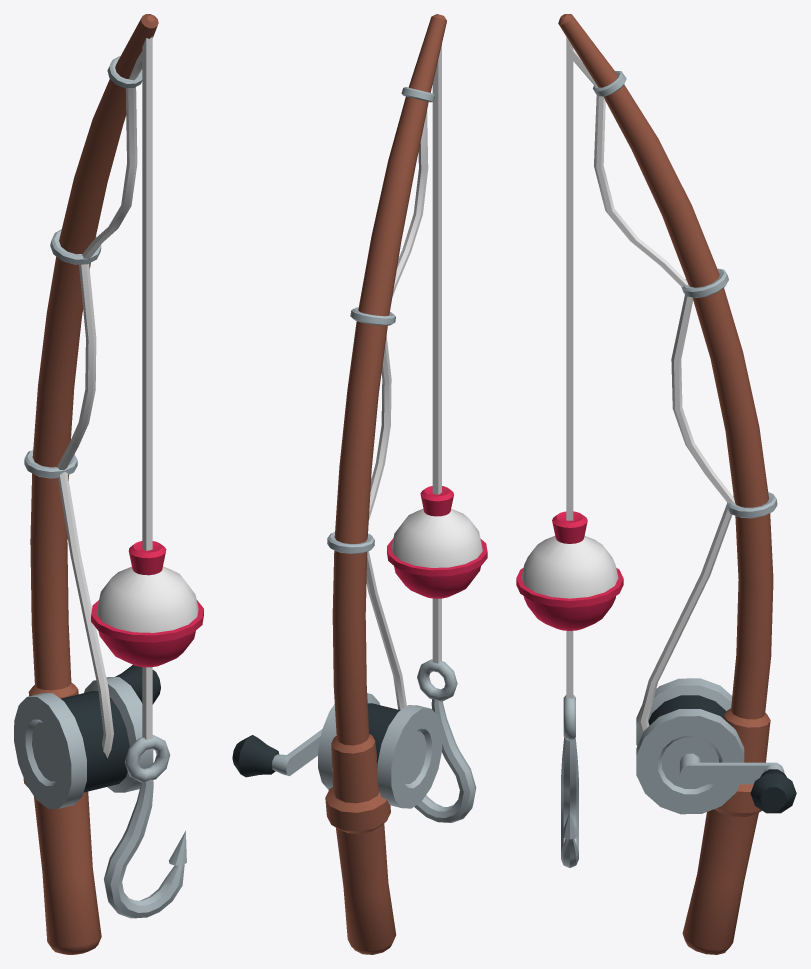
The model's file is fishingpole.gltf.
3 renders of one model, left to right at view 1: azimuth 30°, elevation 25°; view 2: azimuth 150°, elevation 25°; view 3: azimuth 270°, elevation 25°, orthographic. The views are drawn at different scales.
Parts seen in each view (by area): view 1: fishingpole_rod, fishingpole_bobber, fishingpole_line, fishingpole_hook, fishingpole_handle; view 2: fishingpole_rod, fishingpole_bobber, fishingpole_line, fishingpole_hook, fishingpole_handle; view 3: fishingpole_rod, fishingpole_bobber, fishingpole_line, fishingpole_handle, fishingpole_hook.
Part boxes in pixels (box(x1,y1,x2,y2)): fishingpole_rod: box(14, 14, 158, 954); fishingpole_bobber: box(91, 541, 203, 667); fishingpole_line: box(142, 36, 152, 739); fishingpole_hook: box(104, 735, 186, 918); fishingpole_handle: box(115, 665, 160, 704); fishingpole_rod: box(318, 14, 446, 954); fishingpole_bobber: box(387, 486, 487, 598); fishingpole_line: box(432, 44, 441, 663); fishingpole_hook: box(414, 659, 476, 822); fishingpole_handle: box(232, 729, 322, 777); fishingpole_rod: box(558, 14, 777, 954); fishingpole_bobber: box(516, 511, 623, 630); fishingpole_line: box(566, 37, 573, 698); fishingpole_handle: box(679, 753, 796, 813); fishingpole_hook: box(561, 695, 578, 867).
Bounding box in the file's own units: 0.3619 × 2.1 × 0.5692.
